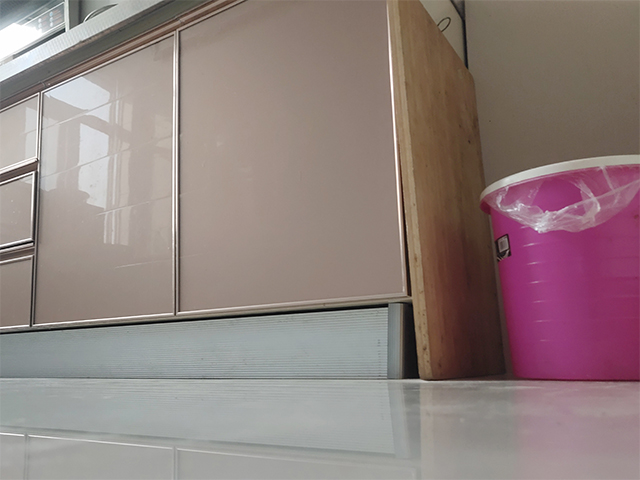cabinet: (1, 1, 469, 380)
trashcan: (477, 153, 640, 384)
